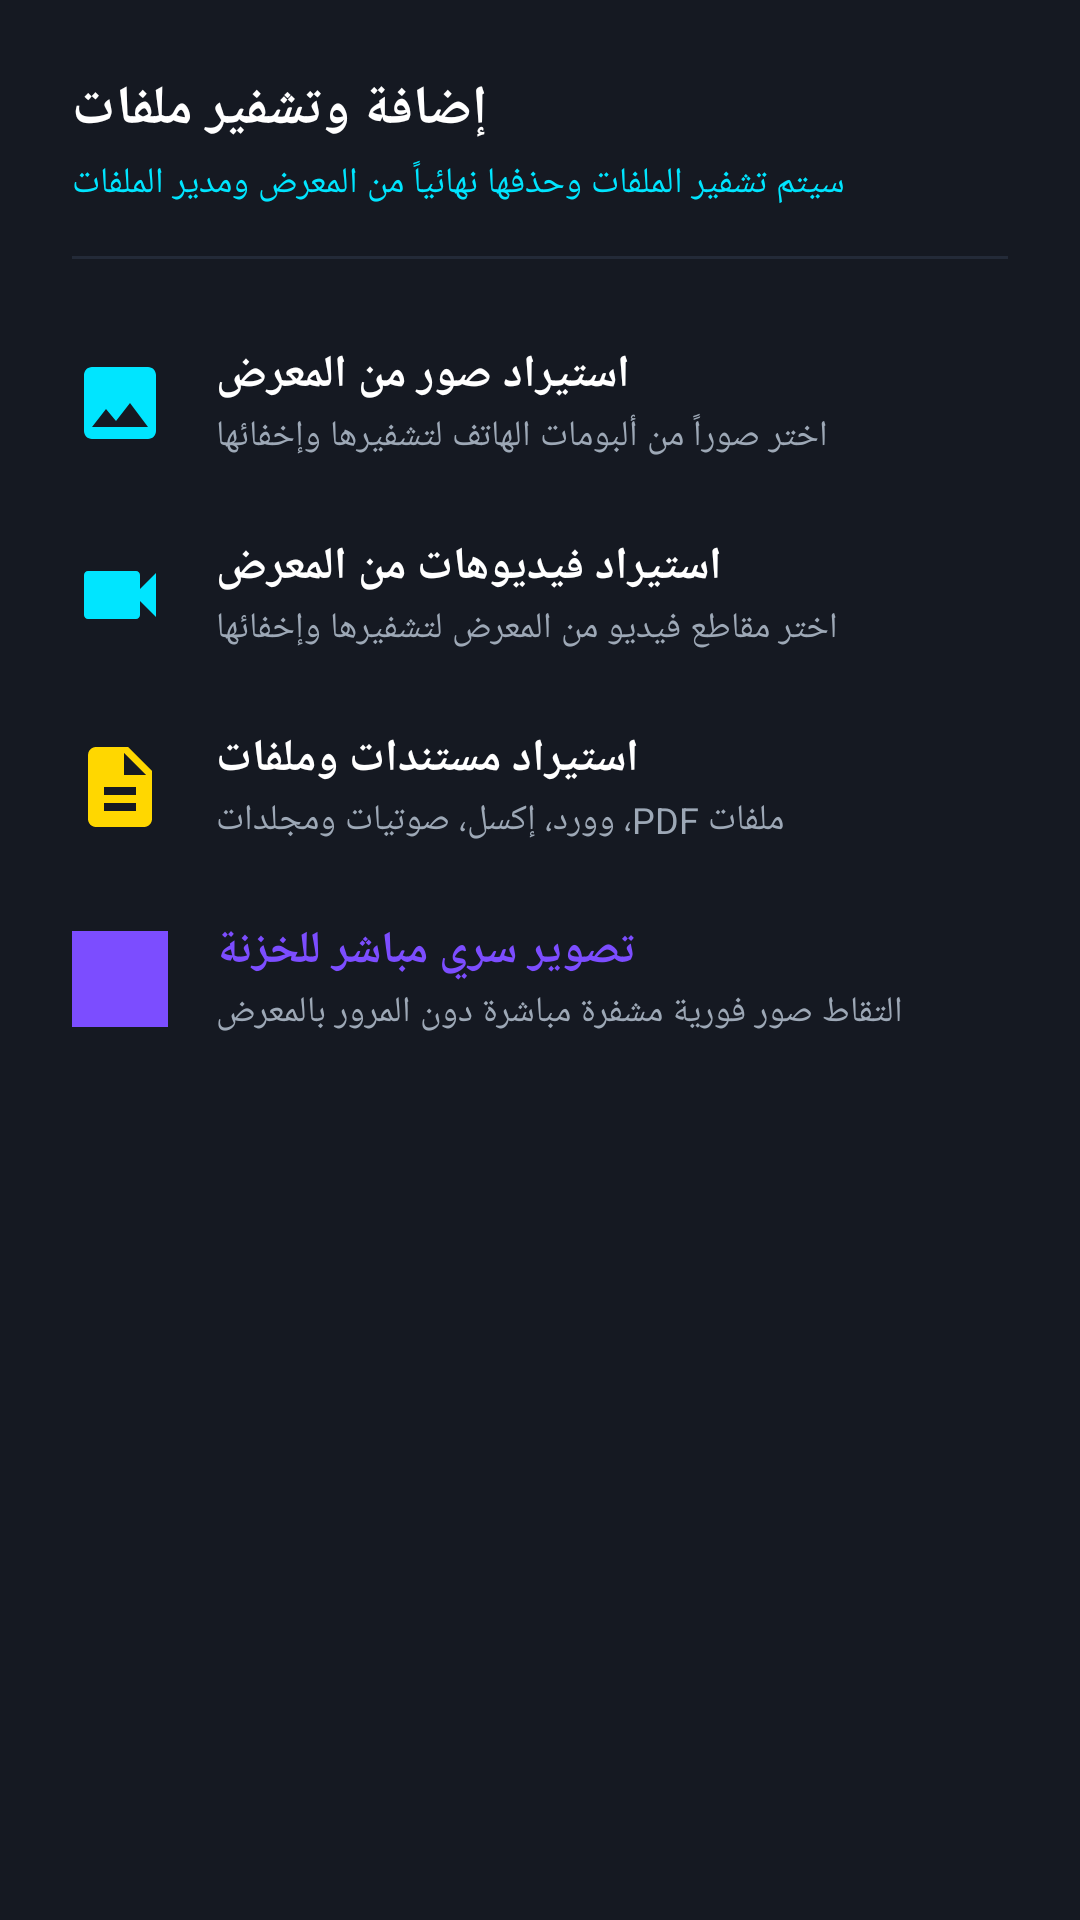

Icon click points for this 1080x1920 phone screenshot, format point (x, y):
document: point (120, 787)
photo: point (120, 403)
video: point (120, 595)
